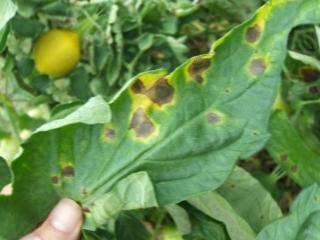Tomato Early blight leaf: (19, 0, 320, 240)
